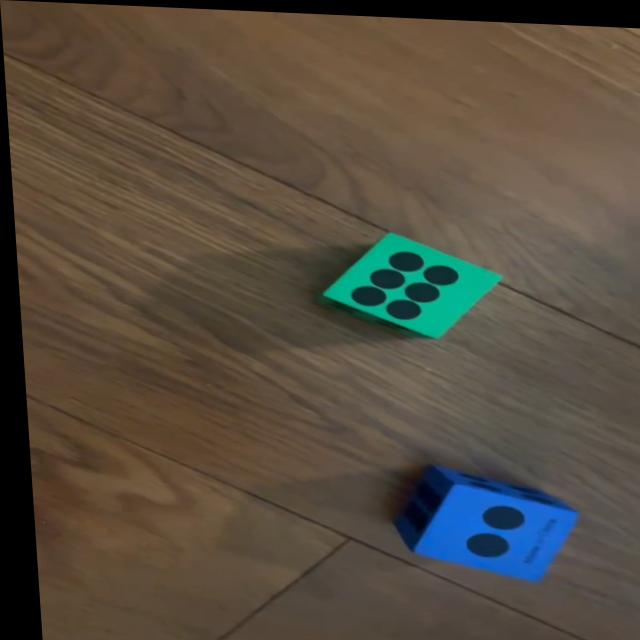blue_block: (379, 459, 574, 576)
